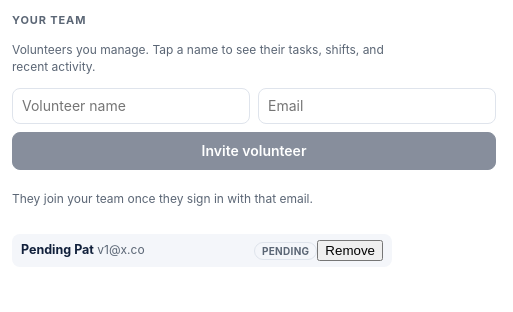
Test case: TeamPanel › marks a pending (not-yet-signed-in) volunteer and doesn't fetch work
Expected: the text "pending" is shown, [254, 242, 317, 260]
Click the text "Pending Pat". click: x=57, y=250
box: [21, 242, 94, 257]
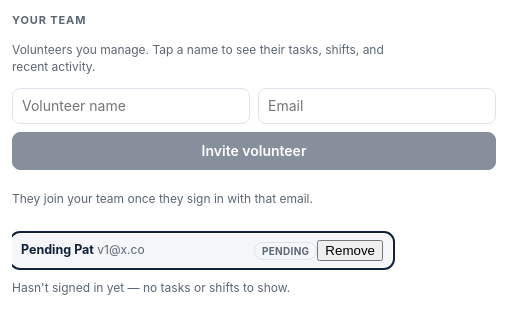
Now the text "Hasn't signed in yet — no tasks or shifts to show." is shown, box [12, 280, 290, 295]
